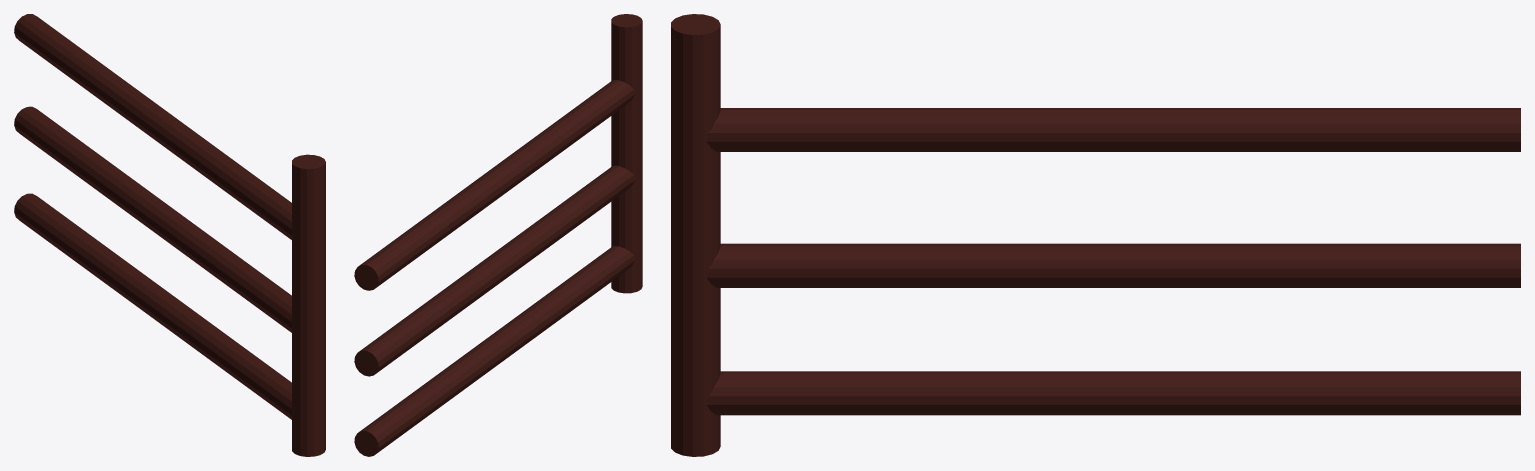
File: Full Connector.fbx
The picture shows the model from 3 angles, left to right: view 1: azimuth 30°, elevation 25°; view 2: azimuth 150°, elevation 25°; view 3: azimuth 270°, elevation 25°; orthographic projection. The views are drawn at different scales.
Parts seen in each view (by area): view 1: Fence Connector; view 2: Fence Connector; view 3: Fence Connector.
Part boxes in pixels (box(x1,y1,x2,y2)): Fence Connector: box(14, 14, 325, 456); Fence Connector: box(354, 14, 642, 456); Fence Connector: box(671, 14, 1520, 456).
Size of the model in its own units: 75.19 by 701 by 1279.
